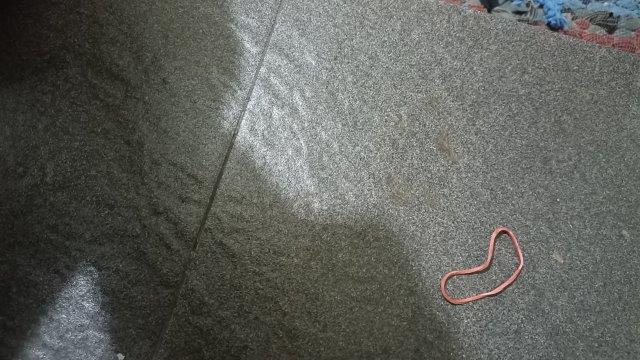karet: (440, 226, 524, 306)
